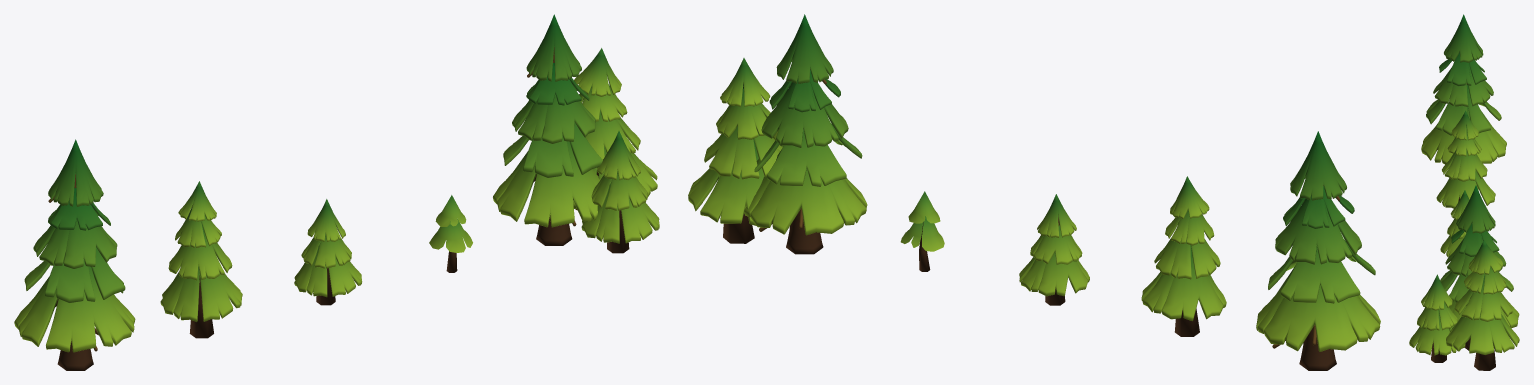
Rendered from tree.glb.
3 views of the same model, side by side, from view 1: azimuth 30°, elevation 25°; view 2: azimuth 150°, elevation 25°; view 3: azimuth 270°, elevation 25° (orthographic). The views are drawn at different scales.
Visible parts, largest first — view 1: Circle.013, Circle.054, Circle.020, Circle.051, Circle.010, Circle.009, Circle.050, Circle.043, Circle.007, Circle.048, Circle.024, Circle.016 (+17 smaller); view 2: Circle.013, Circle.054, Circle.020, Circle.010, Circle.051, Circle.039, Circle.008, Circle.049, Circle.040, Circle.007, Circle.048, Circle.024 (+14 smaller); view 3: Circle.039, Circle.013, Circle.040, Circle.010, Circle.020, Circle.048, Circle.014, Circle.007, Circle.043, Circle.016, Circle.041, Circle.012 (+17 smaller).
Boxes of the visible parts, x1,y1,x2,y2 form: Circle.013: (14, 266, 135, 352); Circle.054: (493, 141, 599, 227); Circle.020: (160, 265, 242, 321); Circle.051: (512, 94, 595, 143); Circle.010: (33, 219, 117, 268); Circle.009: (44, 247, 125, 302); Circle.050: (523, 122, 602, 177); Circle.043: (581, 182, 659, 243); Circle.007: (48, 139, 103, 206); Circle.048: (526, 14, 581, 81); Circle.024: (294, 243, 362, 297); Circle.016: (168, 225, 232, 280); Circle.013: (1256, 266, 1380, 351); Circle.054: (744, 149, 867, 235); Circle.020: (1141, 245, 1226, 320); Circle.010: (1275, 199, 1361, 264); Circle.051: (761, 82, 848, 147); Circle.039: (688, 139, 764, 225); Circle.008: (1280, 245, 1360, 303); Circle.049: (767, 129, 846, 186); Circle.040: (704, 126, 782, 179); Circle.007: (1290, 131, 1346, 200); Circle.048: (776, 14, 833, 83); Circle.024: (1019, 252, 1089, 296); Circle.039: (1446, 313, 1519, 354); Circle.013: (1421, 107, 1506, 164); Circle.040: (1454, 274, 1512, 321); Circle.010: (1433, 63, 1493, 106); Circle.020: (1436, 170, 1495, 208); Circle.048: (1456, 185, 1495, 233); Circle.014: (1436, 85, 1490, 135); Circle.007: (1444, 14, 1483, 62); Circle.043: (1409, 310, 1465, 355); Circle.016: (1442, 149, 1487, 181); Circle.041: (1464, 266, 1506, 294); Circle.012: (1447, 53, 1486, 86).
Bounding box in the file's own units: 10.19 × 3.42 × 2.12.
1 material, 1 textured.
